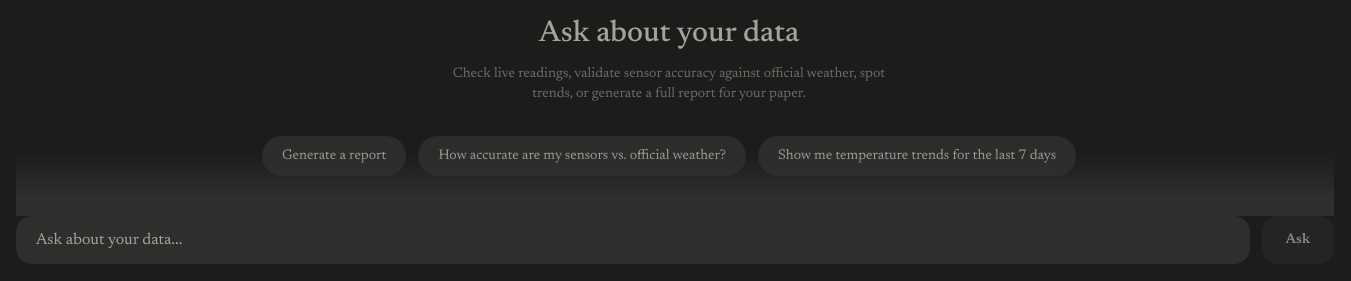
AIChat › shows friendly error text for 429 responses
This screenshot has width=1351, height=281.
Type "hello" into the text box with placeholder "Ask about your data..." at (633, 240), box [16,216,1250,264]
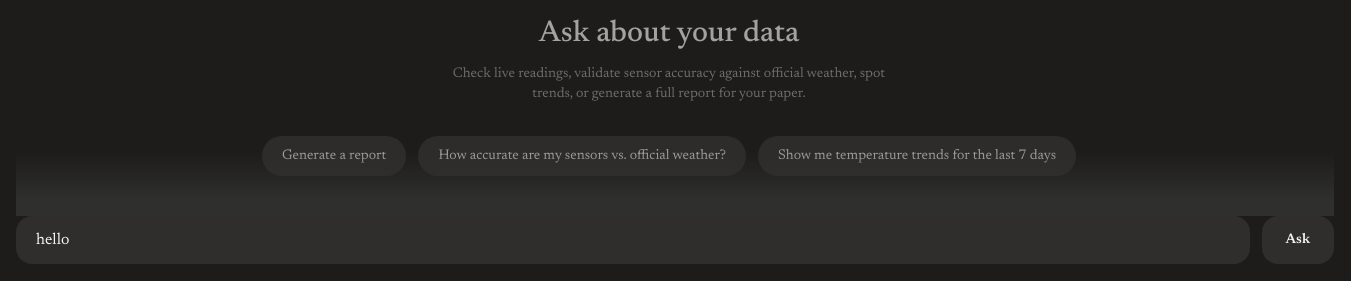
Click the button "Ask" at (1298, 240), box [1262,216,1334,264]
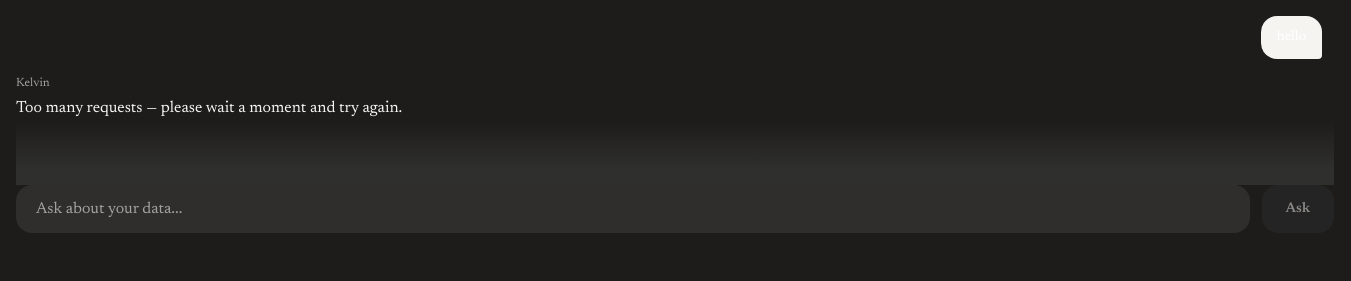
Now the text "Too many requests — please wait a moment and try again." is shown, box [16,95,402,121]
